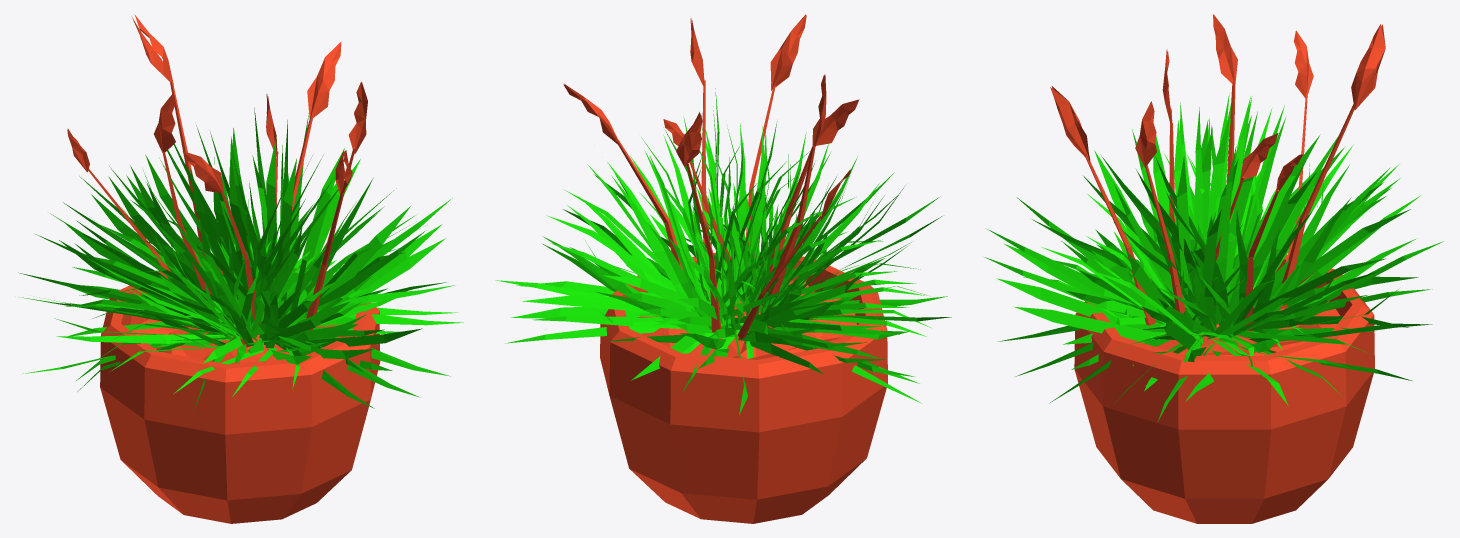
Rendered from SM_Flowerpot_E_Filled.fbx.
3 views of the same model, side by side, from view 1: azimuth 30°, elevation 25°; view 2: azimuth 150°, elevation 25°; view 3: azimuth 270°, elevation 25° (orthographic). The views are drawn at different scales.
Visible parts, largest first — view 1: SM_Flowerpot_E_Filled; view 2: SM_Flowerpot_E_Filled; view 3: SM_Flowerpot_E_Filled.
Part boxes in pixels (x1,y1,x2,y2): SM_Flowerpot_E_Filled: (18, 14, 463, 523); SM_Flowerpot_E_Filled: (495, 14, 951, 523); SM_Flowerpot_E_Filled: (984, 14, 1443, 523).
Size of the model in its own units: 1.24 by 1.3 by 1.22.
